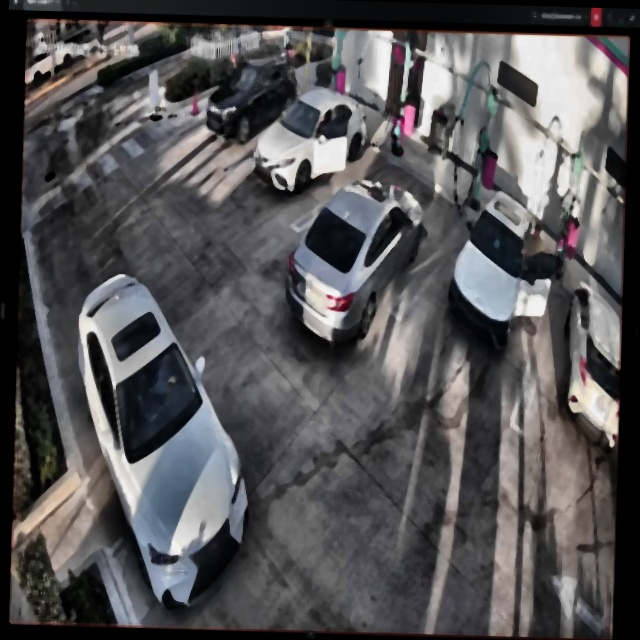Car: (69, 275, 257, 617), (285, 173, 423, 350), (449, 190, 555, 356), (254, 86, 369, 194)
